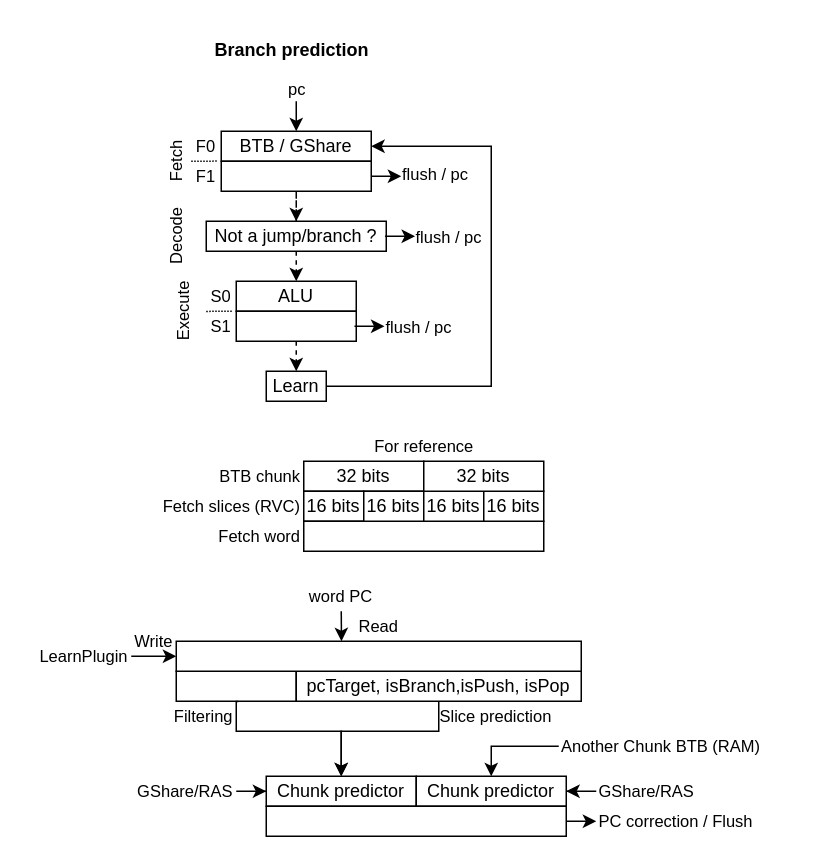
This 816x863 diagram has some shape labels left out. The shapes that lost their labels are listed below. From the top down, each one's box as (x1, y1, x2, y2) in pixels, then its label:
(220, 160, 371, 191): RAS / Prediction
(235, 310, 356, 341): Correction
(302, 520, 544, 551): 64 bits
(175, 640, 581, 671): Chunk BTB (RAM)
(175, 670, 296, 701): pcHash, slice
(265, 805, 566, 836): Aggregator
